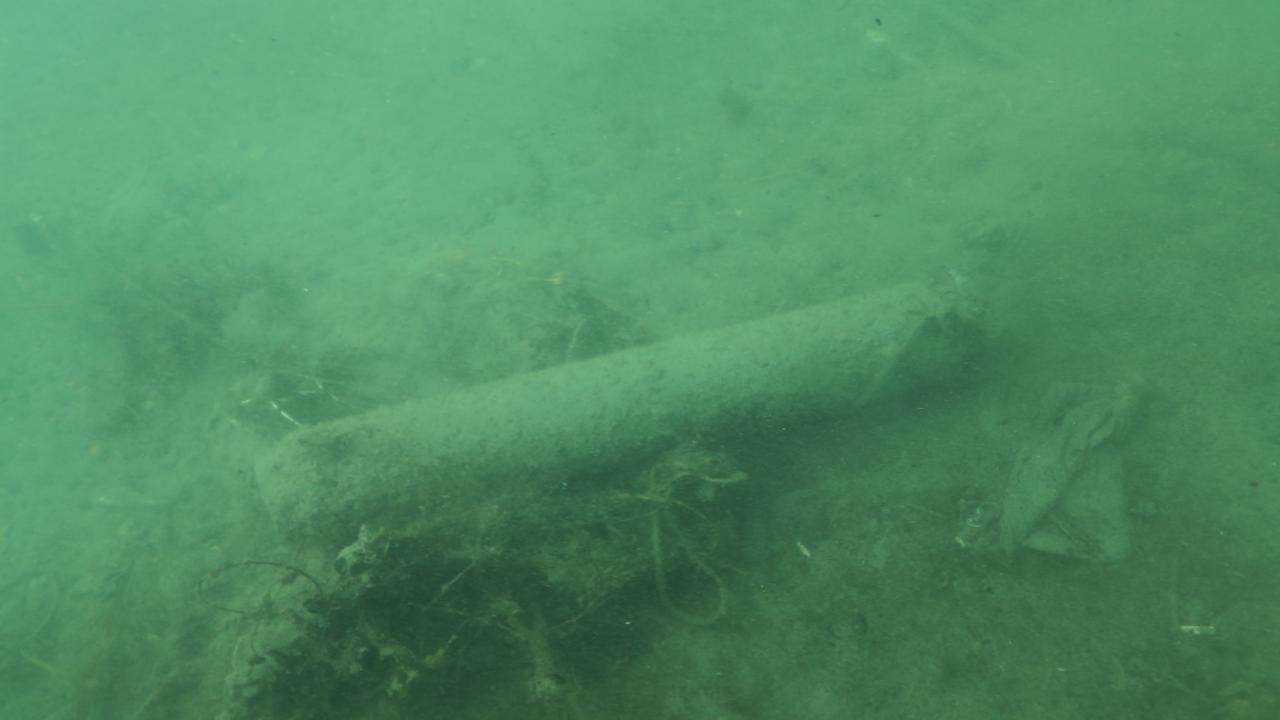eel fish trap: (250, 278, 980, 544)
